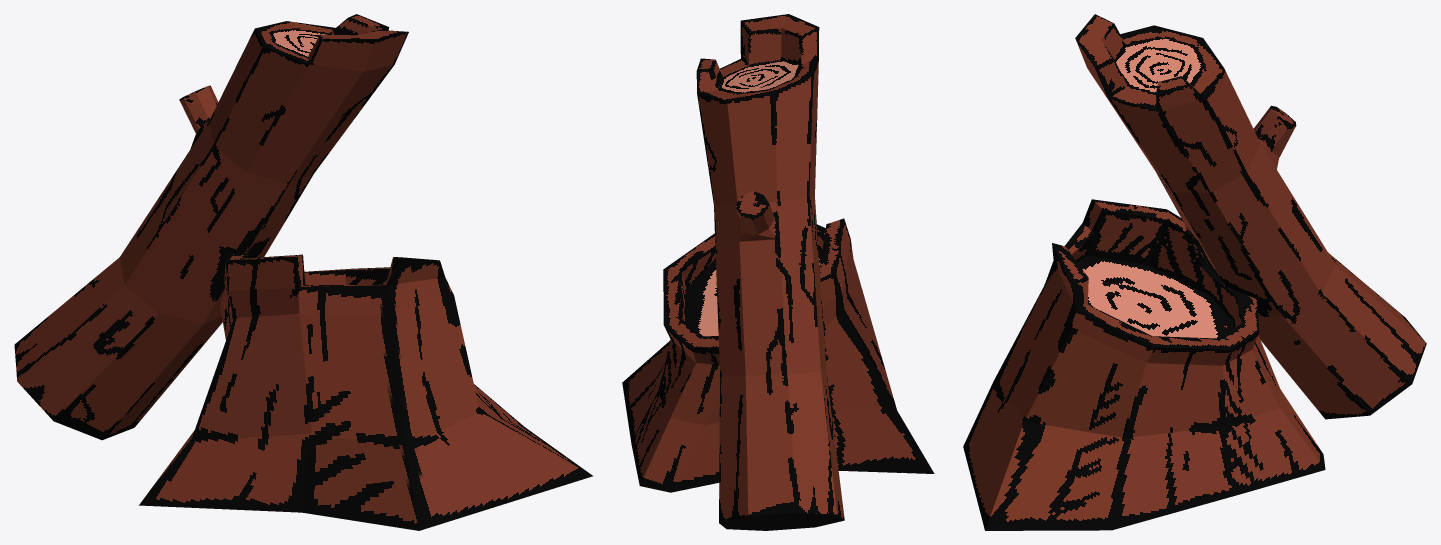
Rendered from Stump01.glb.
3 renders of one model, left to right at view 1: azimuth 30°, elevation 25°; view 2: azimuth 150°, elevation 25°; view 3: azimuth 270°, elevation 25°, orthographic. The views are drawn at different scales.
Visible parts, largest first — view 1: Treestump01; view 2: Treestump01; view 3: Treestump01.
Boxes of the visible parts, box(x1,y1,x2,y2) form: Treestump01: box(14, 14, 593, 530); Treestump01: box(622, 14, 934, 530); Treestump01: box(963, 14, 1426, 530).
Bounding box in the file's own units: 2.98 × 3.5 × 3.39.
Materials: 1 (1 with a texture image).
